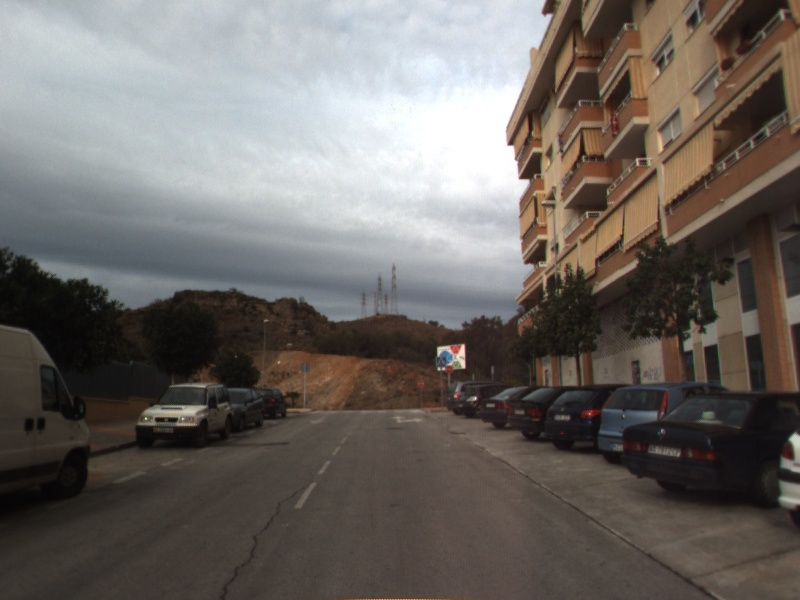STRAIGHT_RIGHT: (388, 413, 425, 425)
